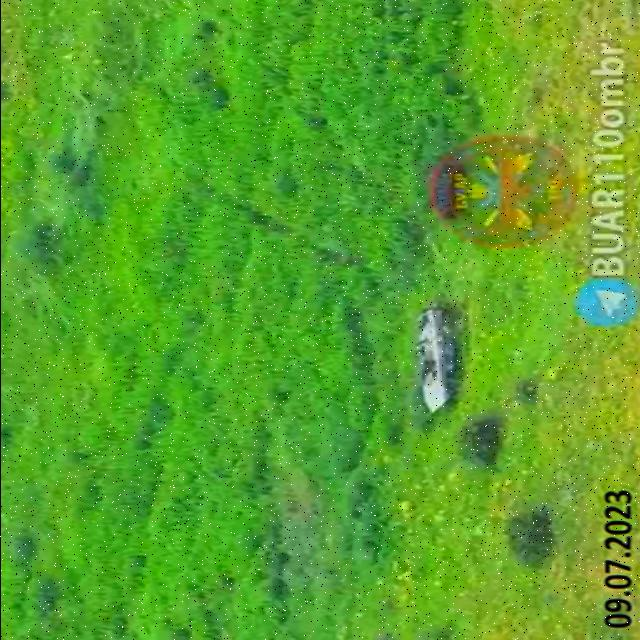APC-IFV: (396, 302, 494, 416)
